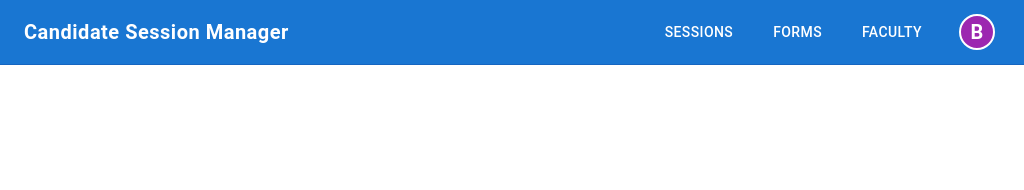
Test: Navigation › opens user menu when clicking on avatar
// Click the avatar
Click the button "B" at [977, 32], box [954,9,1000,55]
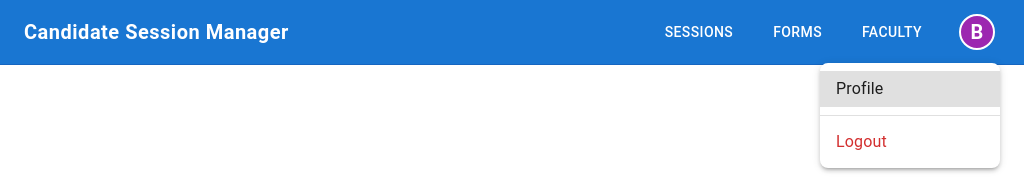
Expected: the menu item "Profile" is shown, [820,71,1000,107]
